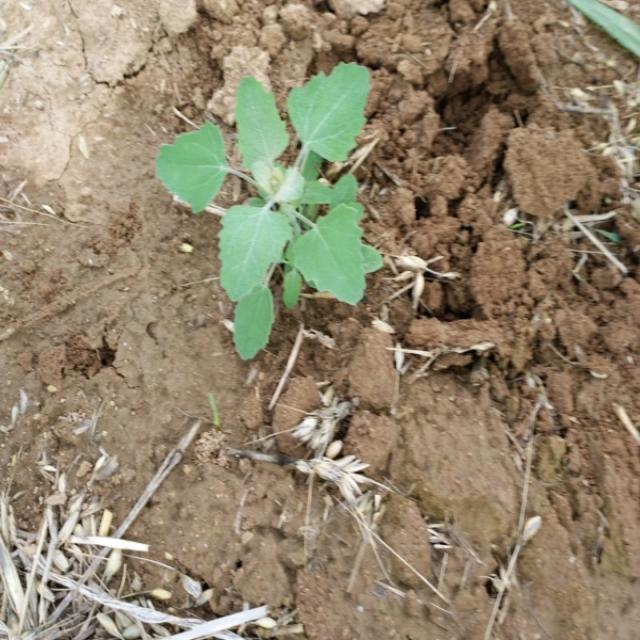goosefoots: (137, 66, 417, 340)
